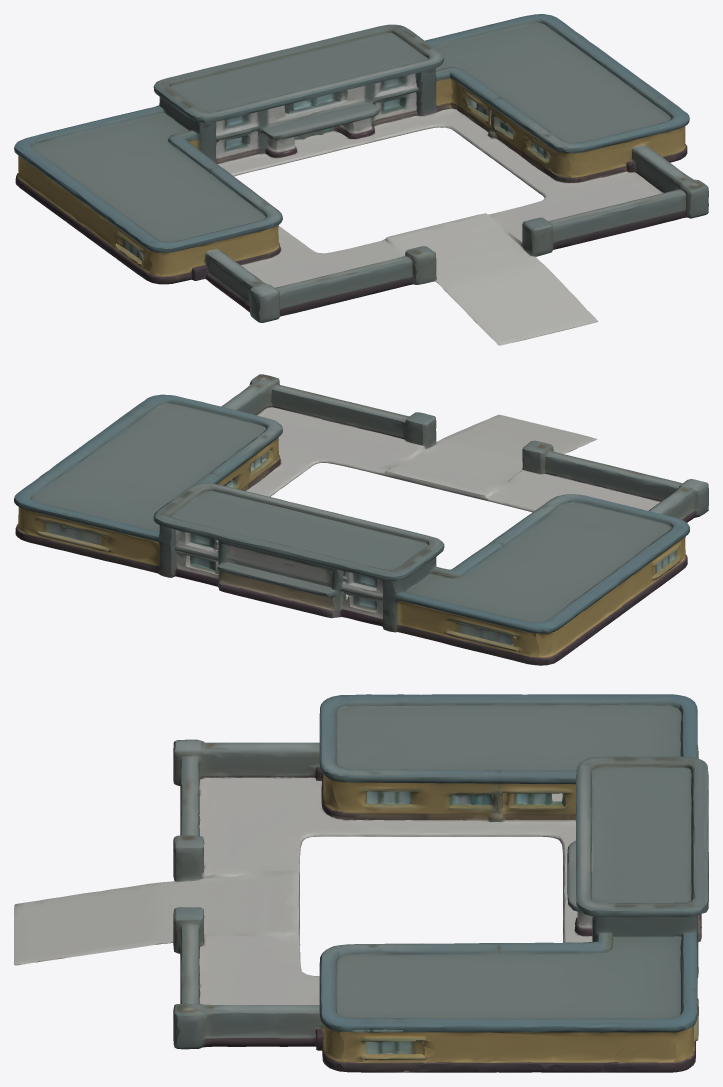
File: medicalexterior-shell.glb
The picture shows the model from 3 angles, top to bottom: view 1: azimuth 30°, elevation 25°; view 2: azimuth 150°, elevation 25°; view 3: azimuth 270°, elevation 25°; orthographic projection. The views are drawn at different scales.
Visible parts, largest first — view 1: world; view 2: world; view 3: world.
Part boxes in pixels (x1,y1,x2,y2): world: (14,14,708,345); world: (14,374,708,665); world: (14,694,708,1072).
Bounding box in the file's own units: 36.75 × 5.27 × 32.41.
1 material, 1 textured.
